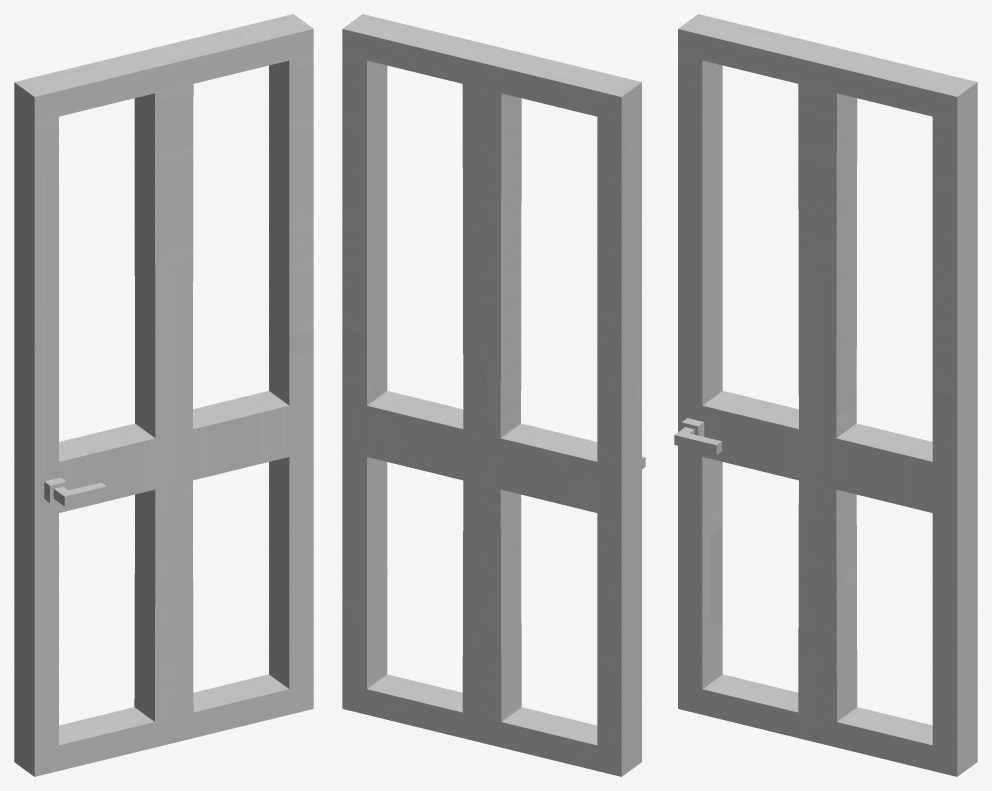
The model's file is лифт2.fbx.
The picture shows the model from 3 angles, left to right: view 1: azimuth 30°, elevation 25°; view 2: azimuth 150°, elevation 25°; view 3: azimuth 330°, elevation 25°; orthographic projection.
Parts seen in each view (by area): view 1: Дверь.002; view 2: Дверь.002; view 3: Дверь.002.
Part boxes in pixels (x1,y1,x2,y2): Дверь.002: [14, 14, 313, 776]; Дверь.002: [342, 14, 645, 776]; Дверь.002: [674, 14, 977, 776].
Size of the model in its own units: 1.04 by 2.43 by 0.2407.
